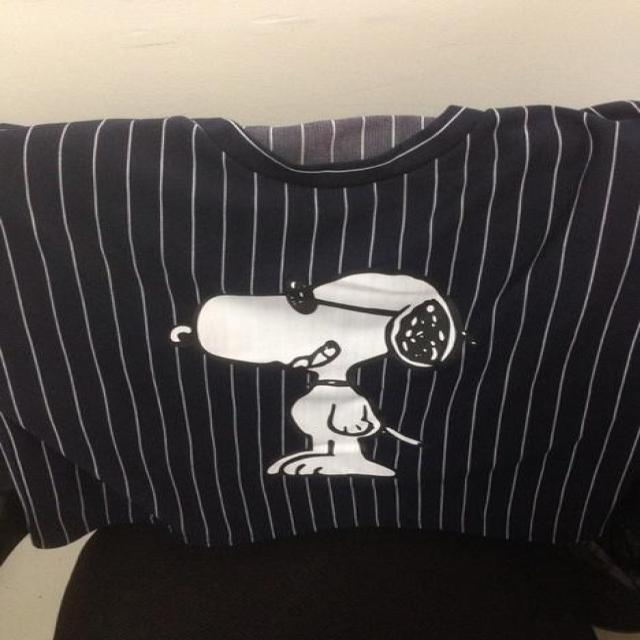short-sleeve-top: (22, 77, 628, 575)
